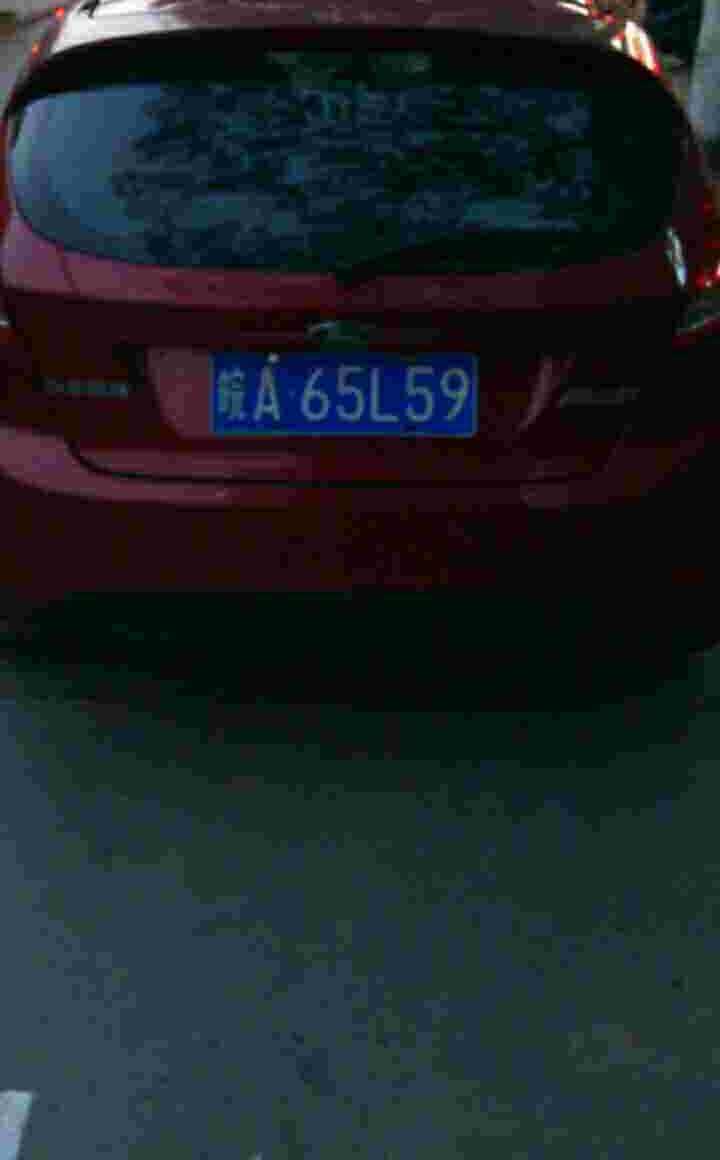plate: (211, 347, 484, 440)
